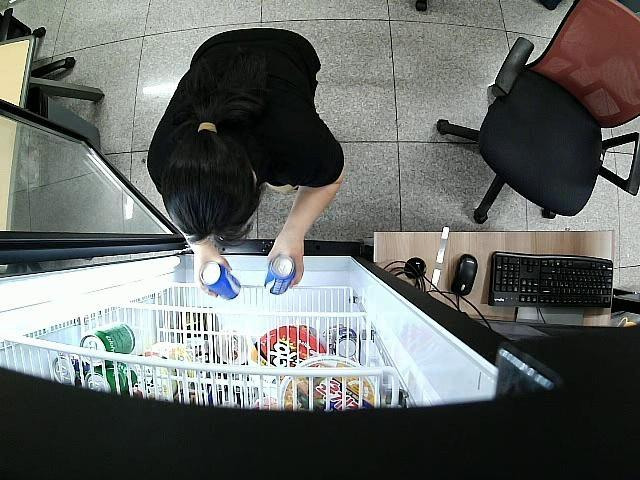13_pocariSweat: (202, 262, 241, 299), (264, 252, 296, 296)
